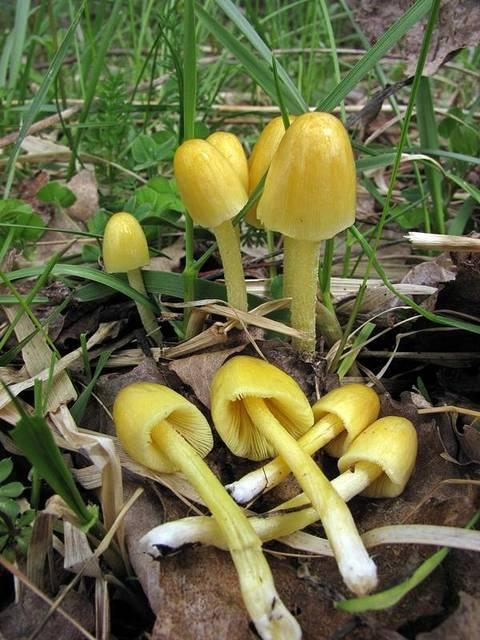Edible Mushroom: (108, 348, 420, 511), (255, 110, 357, 359), (172, 130, 250, 314), (94, 204, 160, 293)
